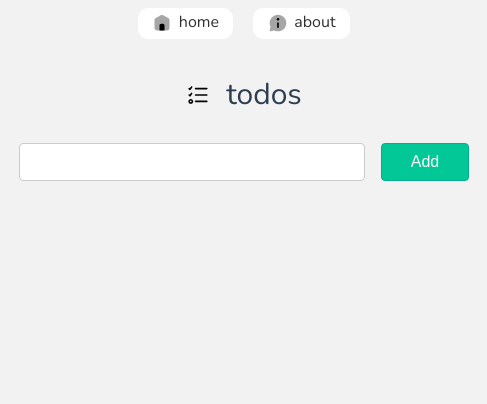
Test: My First Test › add more todos
Type "Learn Vue" into the field at {"x": 192, "y": 162}, box [19, 143, 365, 181]
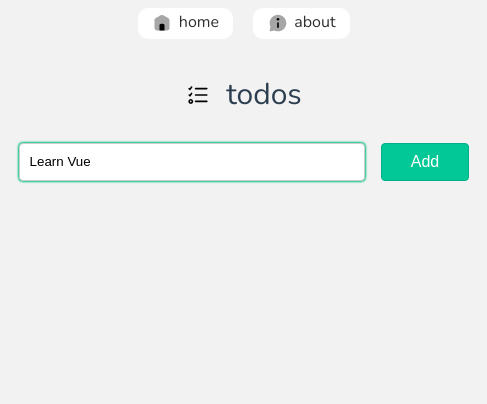
Click the button "Add" at {"x": 425, "y": 162}, box [381, 143, 469, 181]
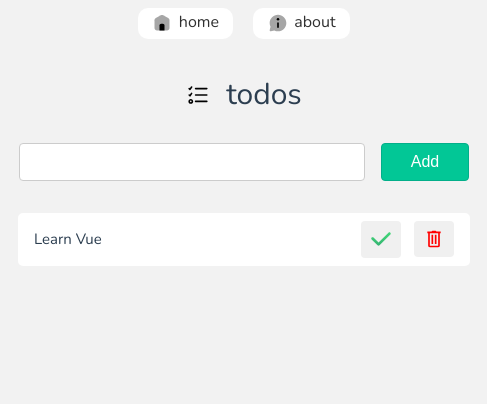
Now the text "Learn Vue" is shown, box [34, 227, 102, 251]
Type "Learn Vue Router" into the field at {"x": 192, "y": 162}, box [19, 143, 365, 181]
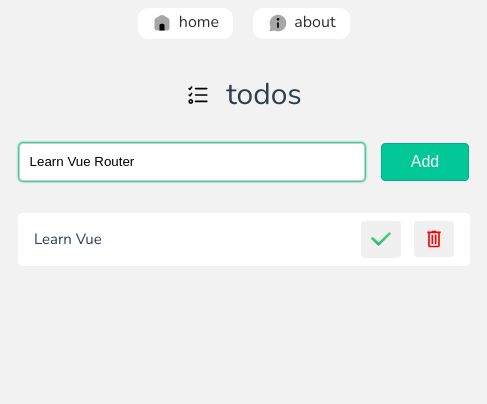
Press Enter in the field, box [19, 143, 365, 181]
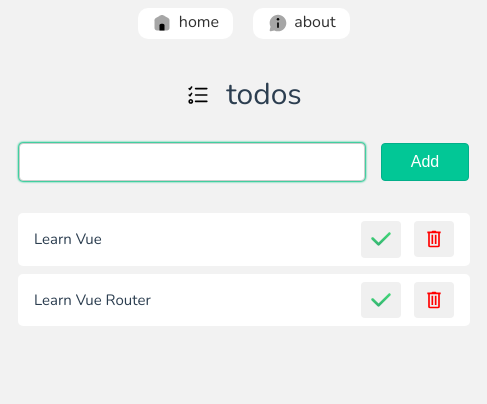
Now the text "Learn Vue" is shown, box [34, 227, 102, 251]
Now the text "Learn Vue Router" is shown, box [34, 288, 151, 312]
Type "Learn Pinia" into the field at {"x": 192, "y": 162}, box [19, 143, 365, 181]
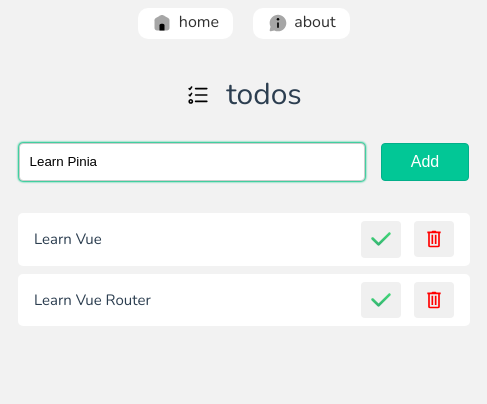
Press Enter in the field, box [19, 143, 365, 181]
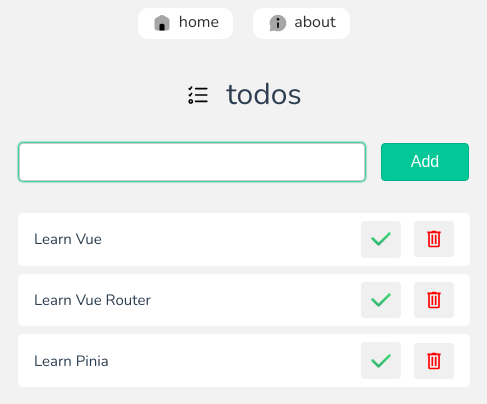
Now the text "Learn Vue" is shown, box [34, 227, 102, 251]
Now the text "Learn Vue Router" is shown, box [34, 288, 151, 312]
Now the text "Learn Pinia" is shown, box [34, 349, 109, 373]
